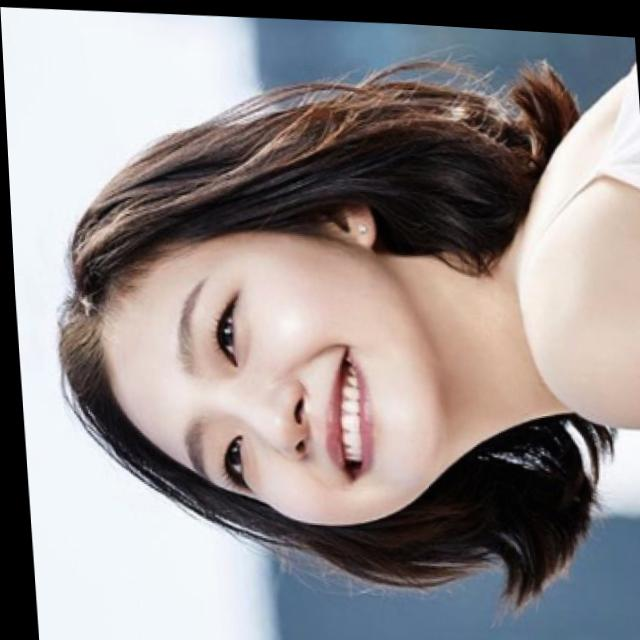face: (47, 176, 448, 539)
